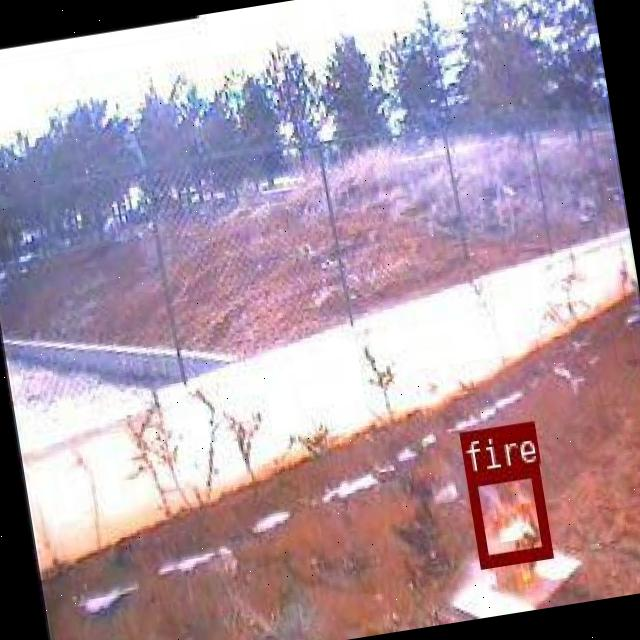fire: (464, 462, 550, 565)
